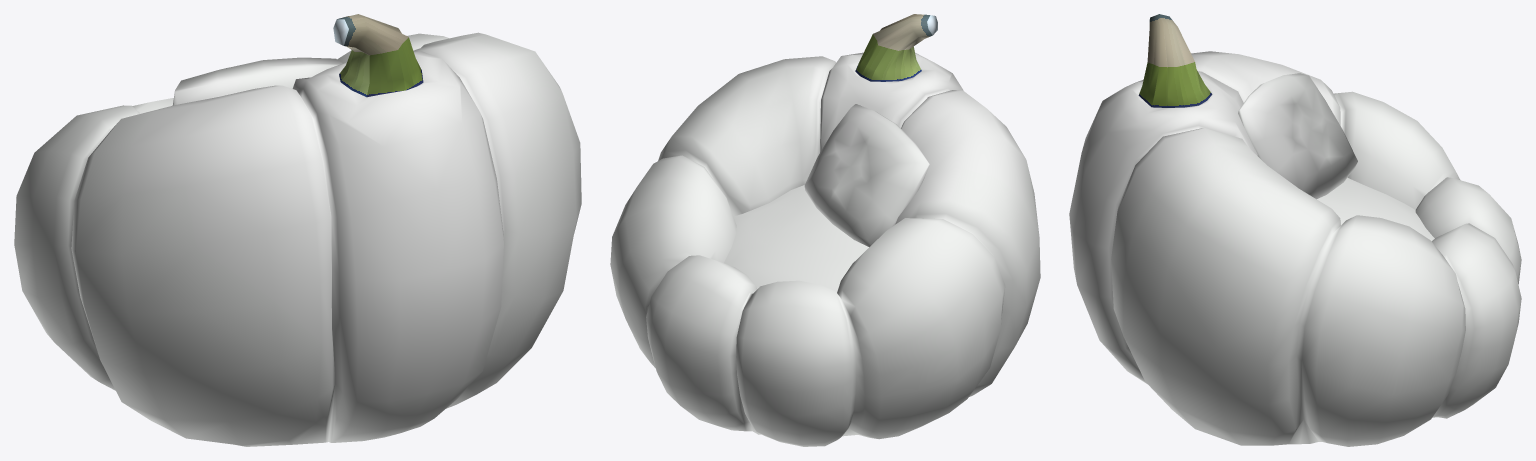
The model's file is P_MischiefPumpkinSofa.glb.
The picture shows the model from 3 angles, left to right: view 1: azimuth 30°, elevation 25°; view 2: azimuth 150°, elevation 25°; view 3: azimuth 270°, elevation 25°; orthographic projection. The views are drawn at different scales.
Visible parts, largest first — view 1: P_MischiefPumpkinSofa; view 2: P_MischiefPumpkinSofa; view 3: P_MischiefPumpkinSofa.
Boxes of the visible parts, <box> form: P_MischiefPumpkinSofa: <box>14,14,581,446</box>; P_MischiefPumpkinSofa: <box>610,14,1040,446</box>; P_MischiefPumpkinSofa: <box>1069,14,1521,446</box>.
Bounding box in the file's own units: 1.18 × 1.02 × 1.16.
1 material, 1 textured.
